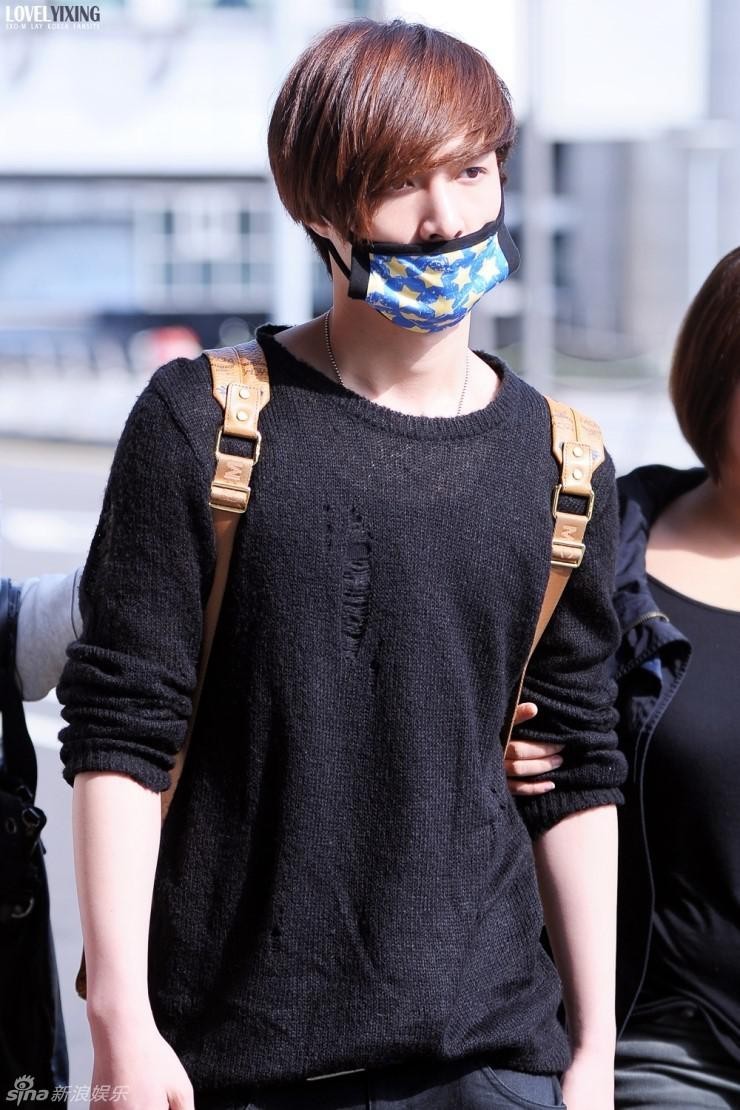WRONG: (325, 128, 521, 324)
